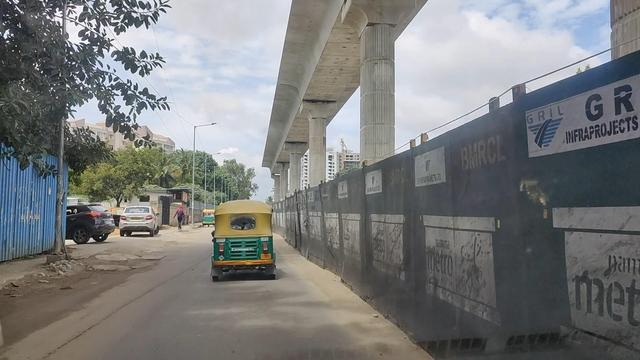LMV: (208, 198, 282, 282)
RoadDamages: (81, 246, 174, 275)
